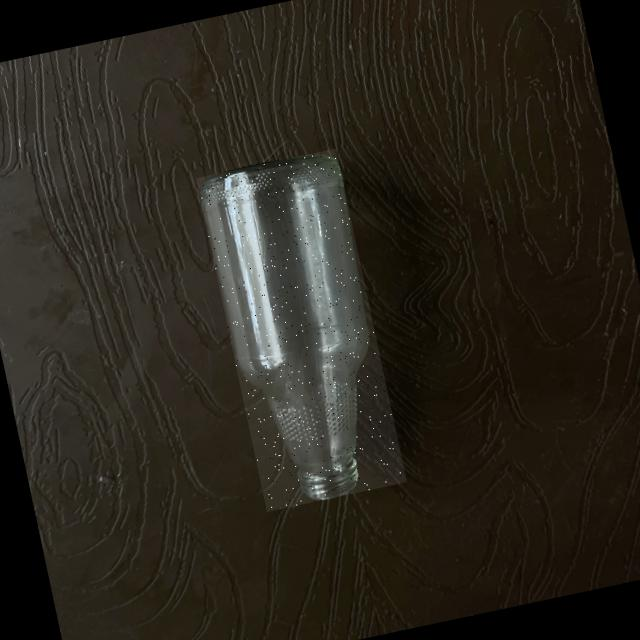Glass_Bottle: (200, 155, 368, 499)
